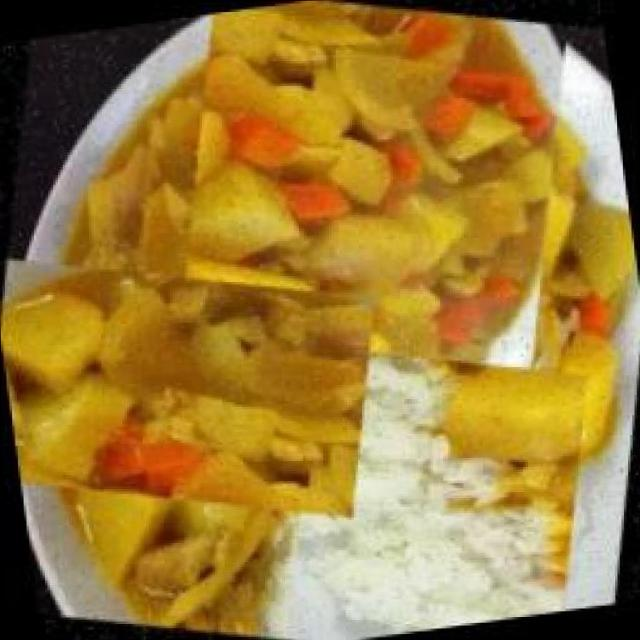curry: (76, 0, 640, 489), (0, 174, 376, 590)
rice: (234, 311, 627, 640)
